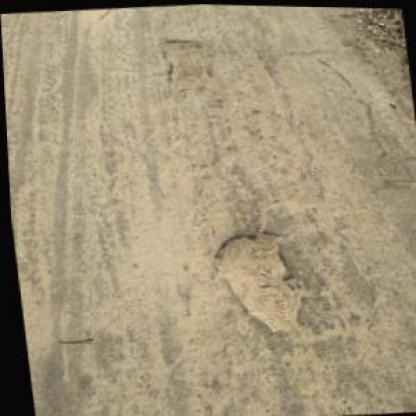pothole: (205, 219, 311, 338), (158, 34, 221, 95)
